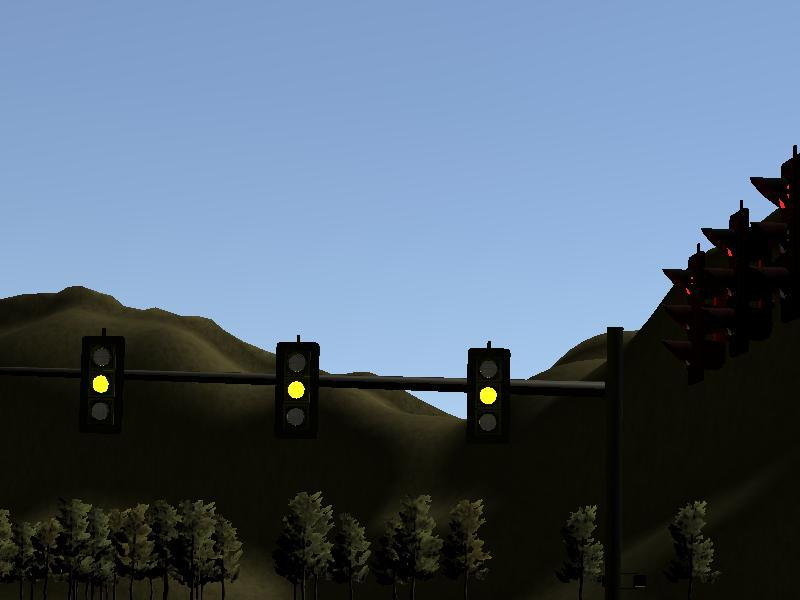Yellow: (275, 342, 320, 440), (81, 335, 125, 435), (467, 347, 511, 445)
